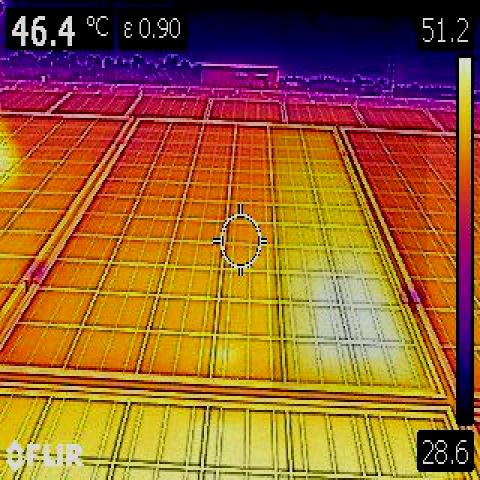fault: (272, 121, 427, 392)
